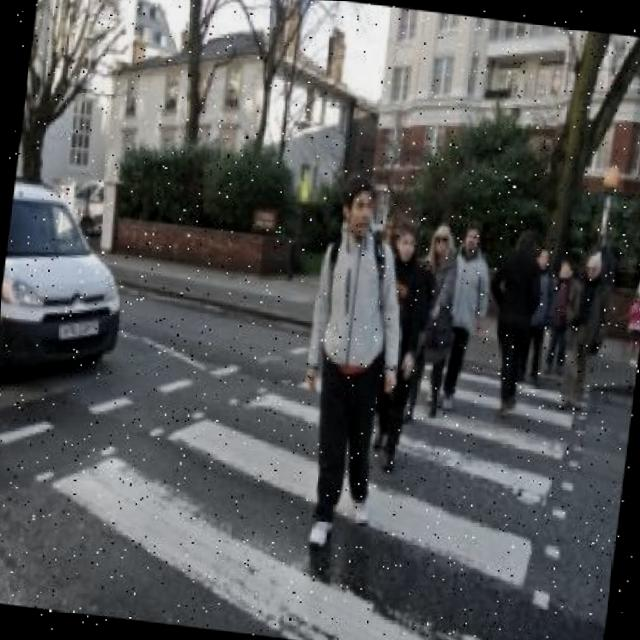Person: (285, 168, 423, 554), (361, 217, 437, 472), (474, 227, 544, 417), (428, 219, 496, 409), (406, 220, 464, 422), (557, 252, 612, 412), (542, 258, 580, 381)
